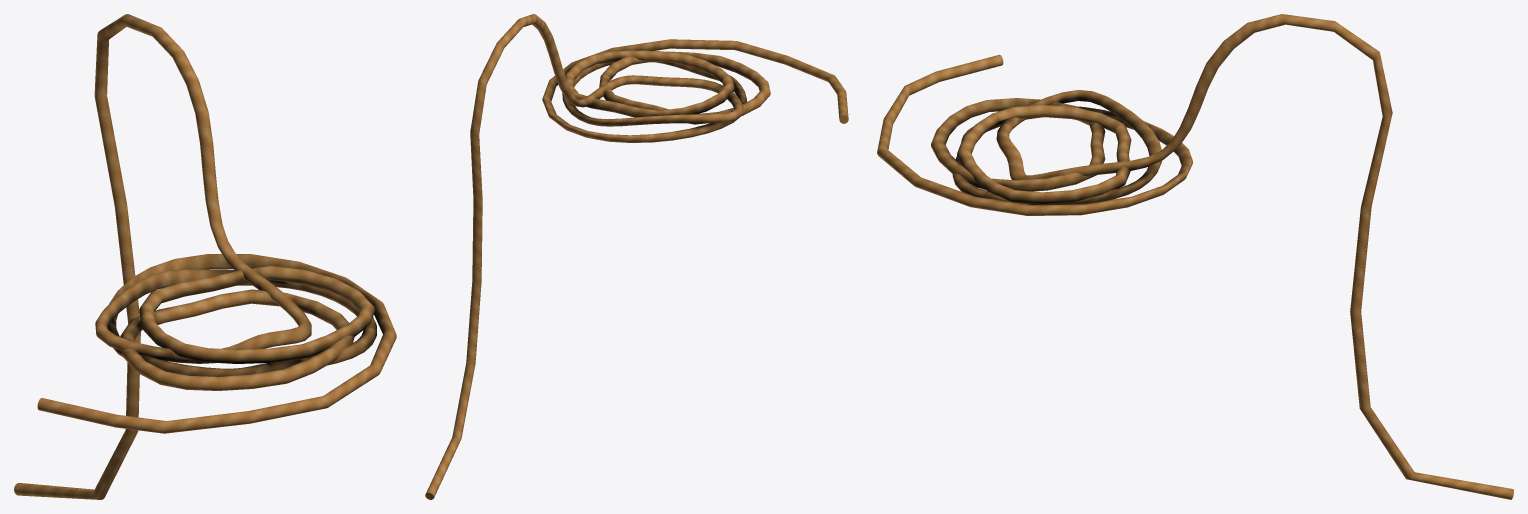
File: Prop_Rope_001_EndCap.fbx
3 views of the same model, side by side, from view 1: azimuth 30°, elevation 25°; view 2: azimuth 150°, elevation 25°; view 3: azimuth 270°, elevation 25° (orthographic). The views are drawn at different scales.
Parts seen in each view (by area): view 1: Prop_Rope_001; view 2: Prop_Rope_001; view 3: Prop_Rope_001.
Part boxes in pixels (x1,y1,x2,y2): Prop_Rope_001: (14,14,396,499); Prop_Rope_001: (425,14,848,499); Prop_Rope_001: (877,14,1513,499).
Size of the model in its own units: 223 by 330 by 391.
